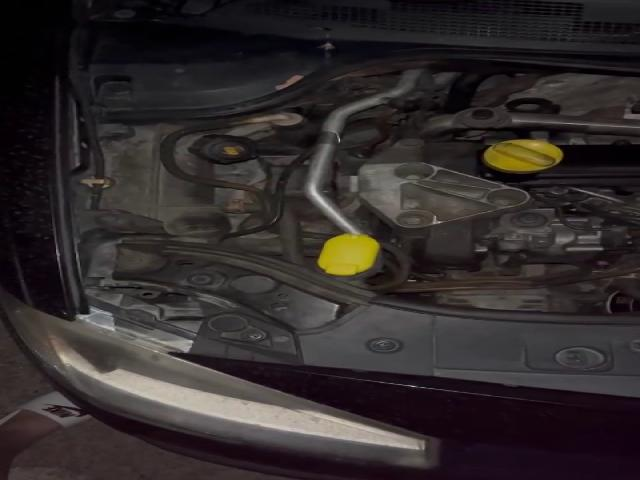antifreeze_tank: (102, 127, 234, 242), (174, 133, 258, 179)
